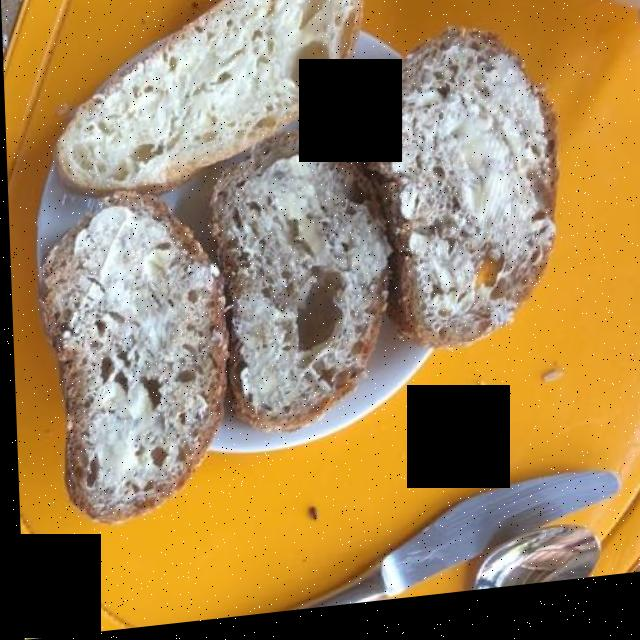bread-white: (36, 0, 355, 203)
bread-wholemeal: (38, 30, 567, 531)
butter: (60, 0, 538, 500)
